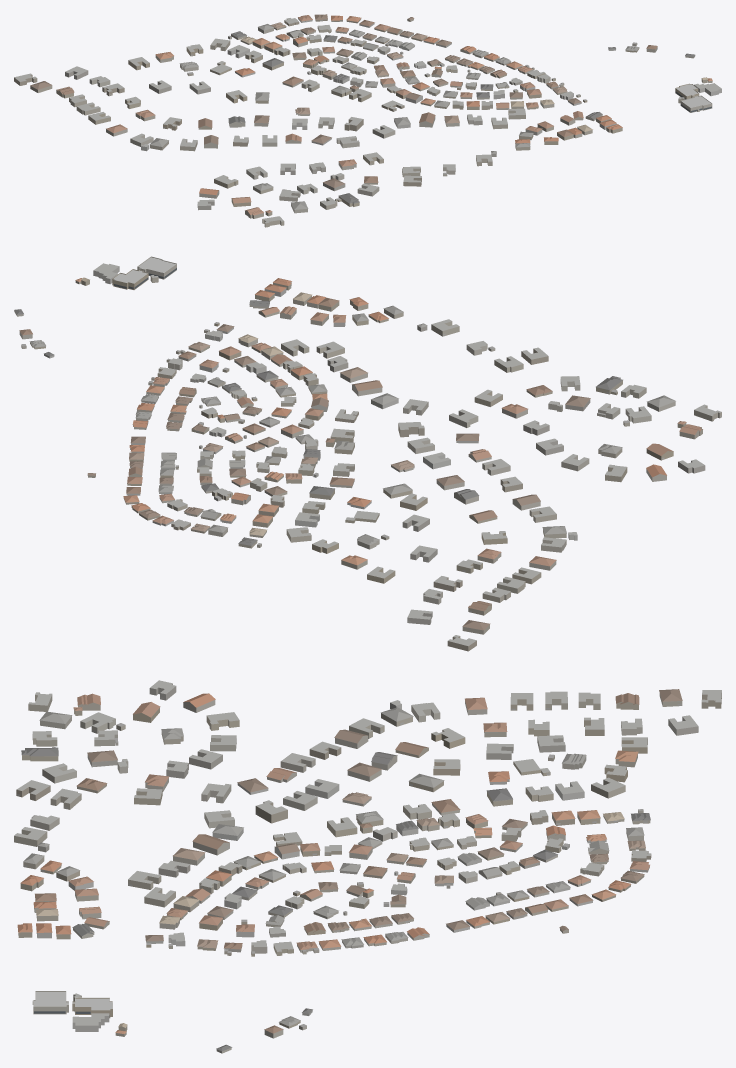
The model's file is buildings_r2_c2.glb.
The picture shows the model from 3 angles, top to bottom: view 1: azimuth 30°, elevation 25°; view 2: azimuth 150°, elevation 25°; view 3: azimuth 270°, elevation 25°; orthographic projection. The views are drawn at different scales.
Visible parts, largest first — view 1: buildings_r2_c2; view 2: buildings_r2_c2; view 3: buildings_r2_c2.
Part boxes in pixels (bbox=[...]): buildings_r2_c2: bbox=[14, 14, 721, 227]; buildings_r2_c2: bbox=[14, 256, 721, 651]; buildings_r2_c2: bbox=[14, 680, 721, 1053].
Bounding box in the file's own units: 1020 × 63.1 × 790.
